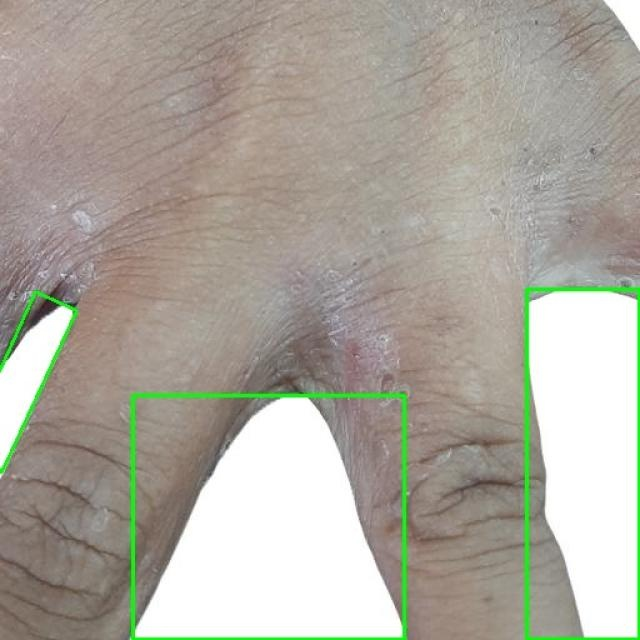Scabies: (132, 395, 404, 639), (526, 289, 639, 639), (0, 292, 79, 481)
